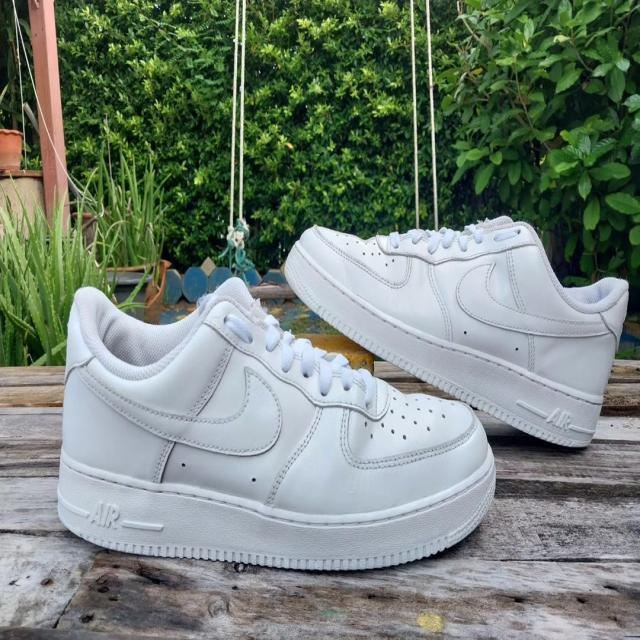nike original air force: (54, 283, 498, 577), (282, 214, 630, 456)
